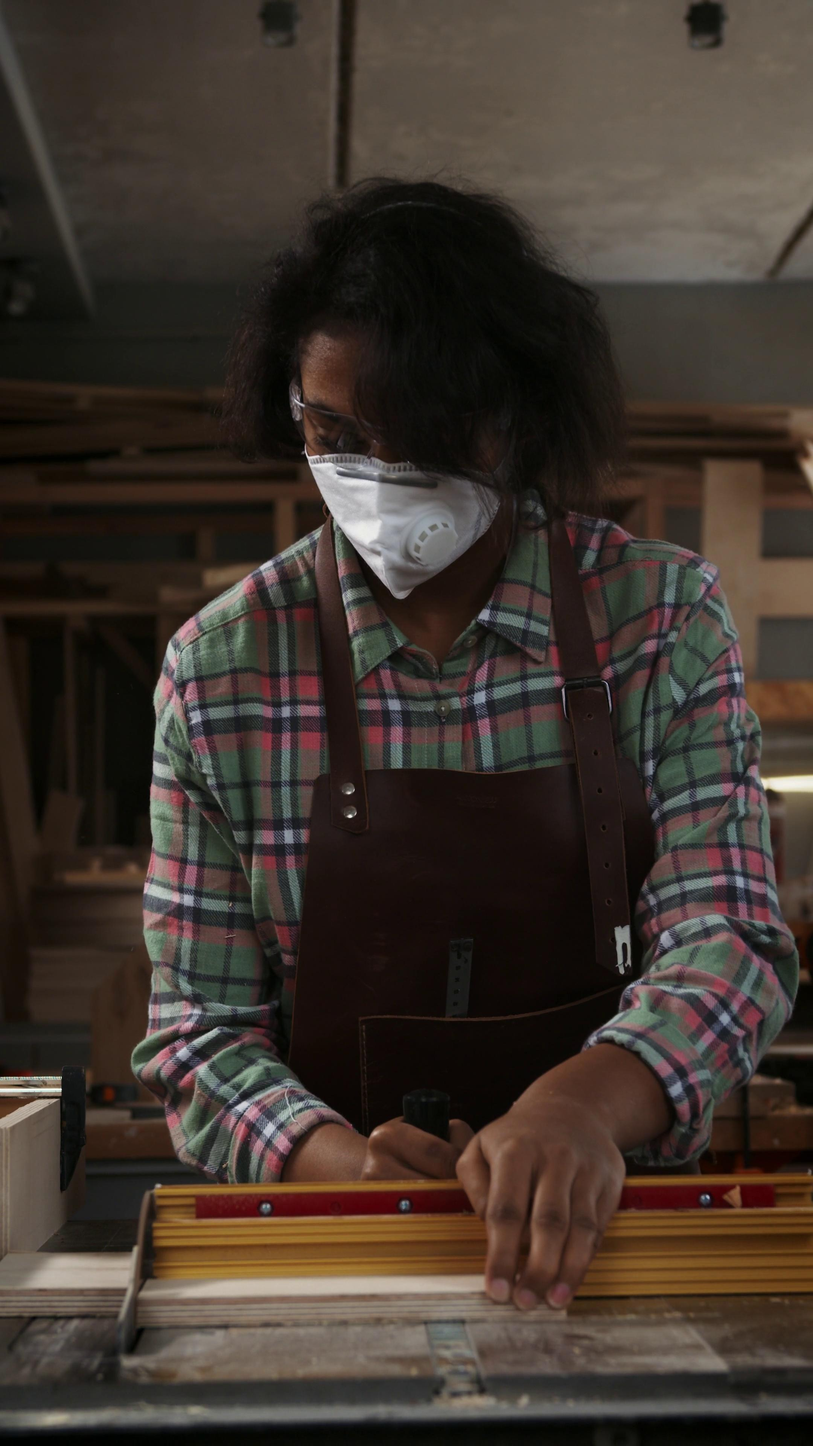mask: (303, 450, 501, 602)
person: (129, 171, 802, 1312)
